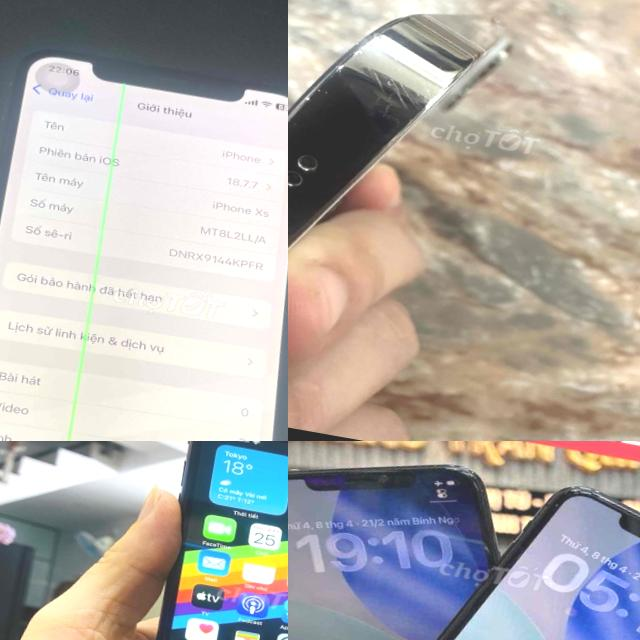scratch: (337, 38, 482, 131)
screen_defect: (32, 77, 146, 441)
